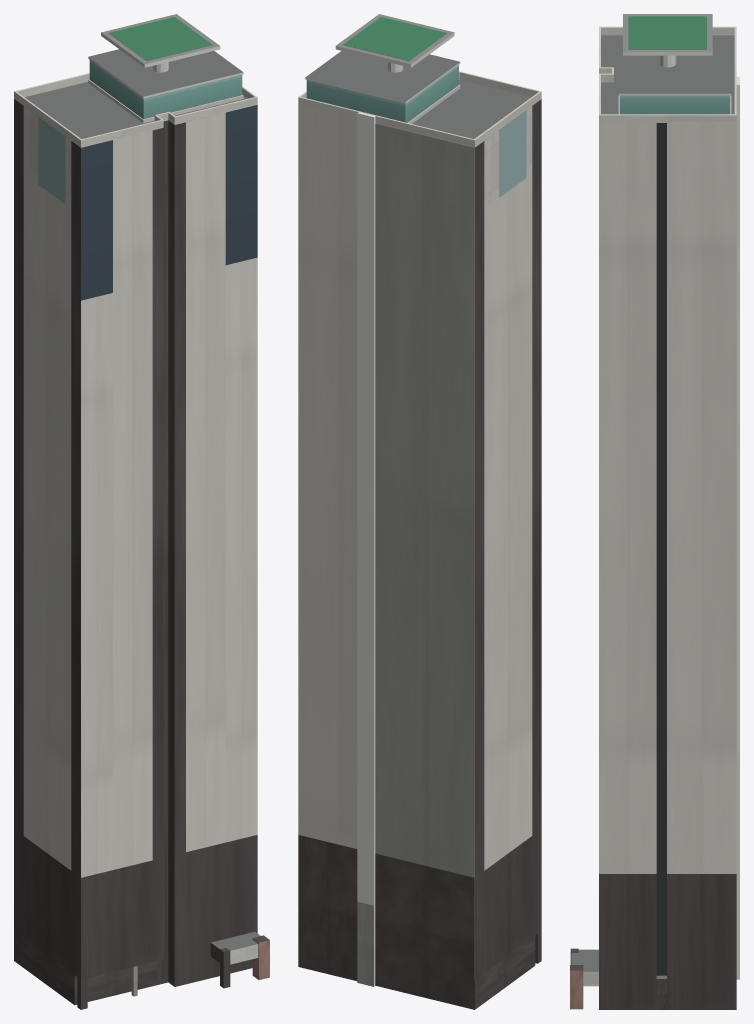
The model's file is HighriseTower103_L1_5x4_LOD2.fbx.
3 views of the same model, side by side, from view 1: azimuth 30°, elevation 25°; view 2: azimuth 150°, elevation 25°; view 3: azimuth 270°, elevation 25° (orthographic). The views are drawn at different scales.
Parts seen in each view (by area): view 1: HighriseTower103_L1_5x4_LOD2; view 2: HighriseTower103_L1_5x4_LOD2; view 3: HighriseTower103_L1_5x4_LOD2.
Boxes of the visible parts, left/top/right/bottom form: HighriseTower103_L1_5x4_LOD2: left=14, top=14, right=269, bottom=1009; HighriseTower103_L1_5x4_LOD2: left=298, top=14, right=541, bottom=1009; HighriseTower103_L1_5x4_LOD2: left=570, top=14, right=739, bottom=1009.
Bounding box in the file's own units: 3202 × 15913 × 2591.
Materials: 1 (1 with a texture image).
